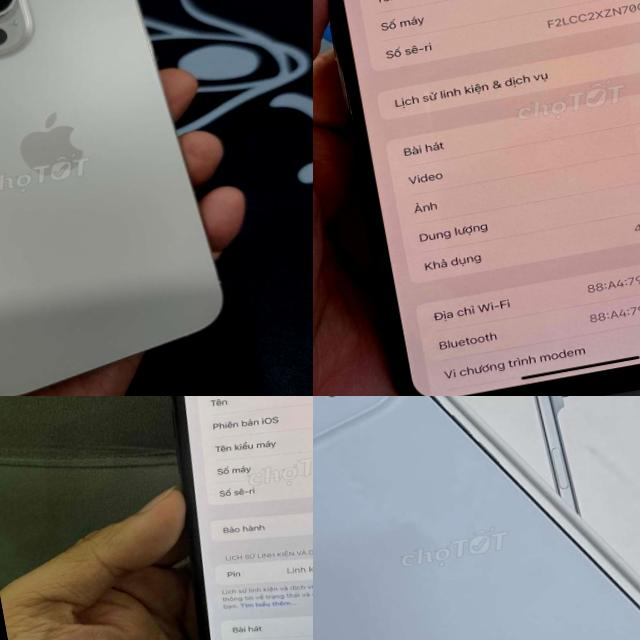gen_11: (329, 0, 640, 396)
gen_15: (0, 0, 245, 396)
gen_17: (313, 396, 640, 640)
gen_x_xs: (124, 396, 313, 640)
